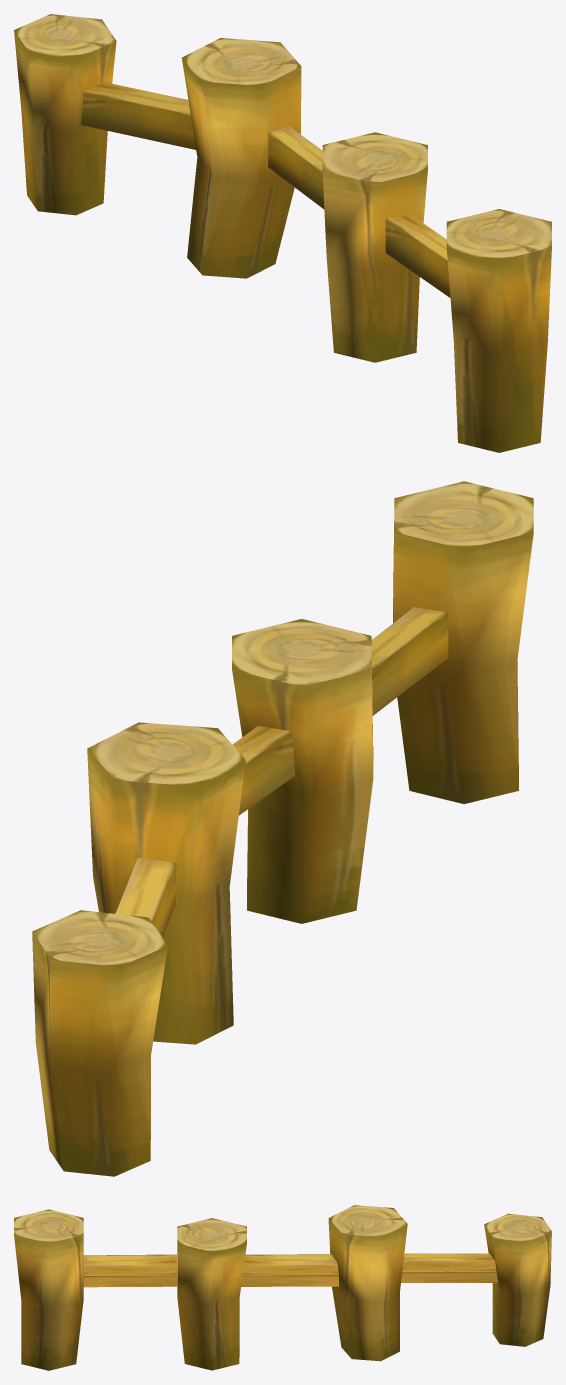
Rendered from zhalan_L1.fbx.
3 views of the same model, one above another, from view 1: azimuth 30°, elevation 25°; view 2: azimuth 150°, elevation 25°; view 3: azimuth 270°, elevation 25° (orthographic). The views are drawn at different scales.
Parts seen in each view (by area): view 1: polySurface26; view 2: polySurface26; view 3: polySurface26.
Part boxes in pixels (<box>): polySurface26: <box>14,14,551,452</box>; polySurface26: <box>32,481,533,1176</box>; polySurface26: <box>14,1205,551,1370</box>.
Bounding box in the file's own units: 4.14 × 4.6 × 16.54.
